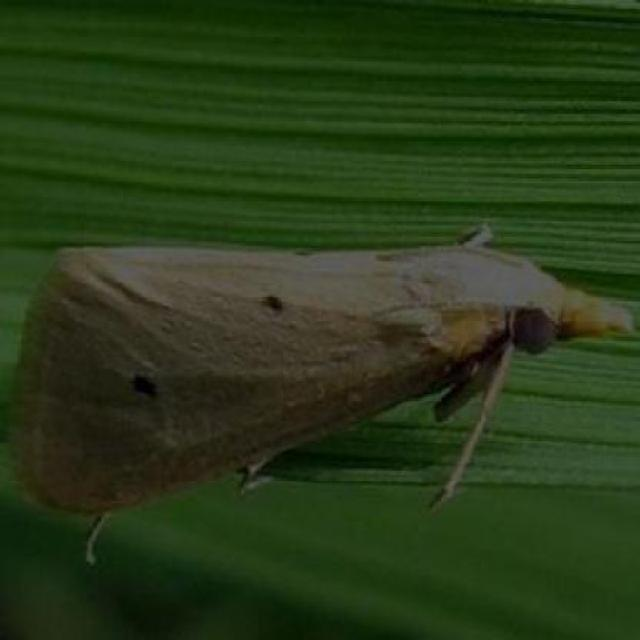stem-borer: (3, 227, 640, 536)
